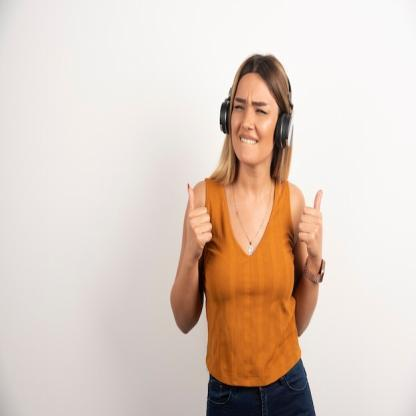thumb_up: (180, 180, 214, 260), (297, 186, 326, 262)
